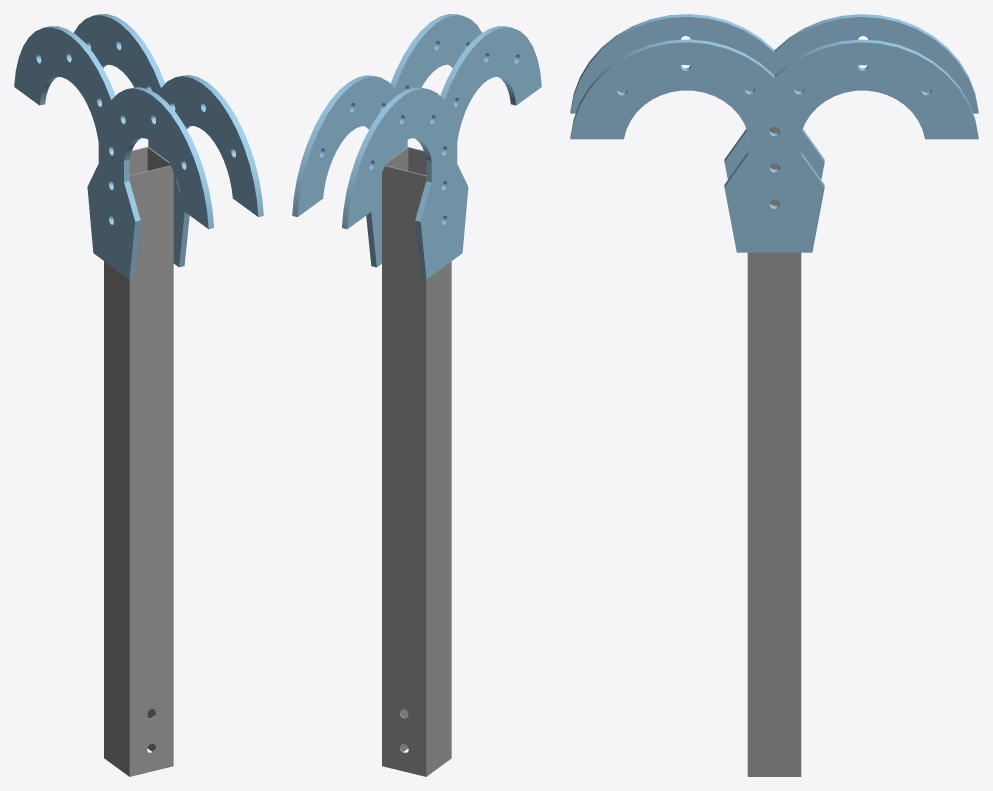
The picture shows the model from 3 angles, left to right: view 1: azimuth 30°, elevation 25°; view 2: azimuth 150°, elevation 25°; view 3: azimuth 270°, elevation 25°; orthographic projection. The views are drawn at different scales.
Visible parts, largest first — view 1: 1x1, Part 1 (×2); view 2: 1x1, Part 1 (×2); view 3: Part 1 (×2), 1x1.
Boxes of the visible parts, x1,y1,x2,y2 form: 1x1: [104, 147, 173, 776]; Part 1 (×2): [14, 14, 263, 279]; 1x1: [382, 147, 451, 776]; Part 1 (×2): [292, 14, 541, 279]; Part 1 (×2): [570, 14, 978, 252]; 1x1: [747, 126, 801, 776].
Bounding box in the file's own units: 0.0318 × 0.3865 × 0.1938.
